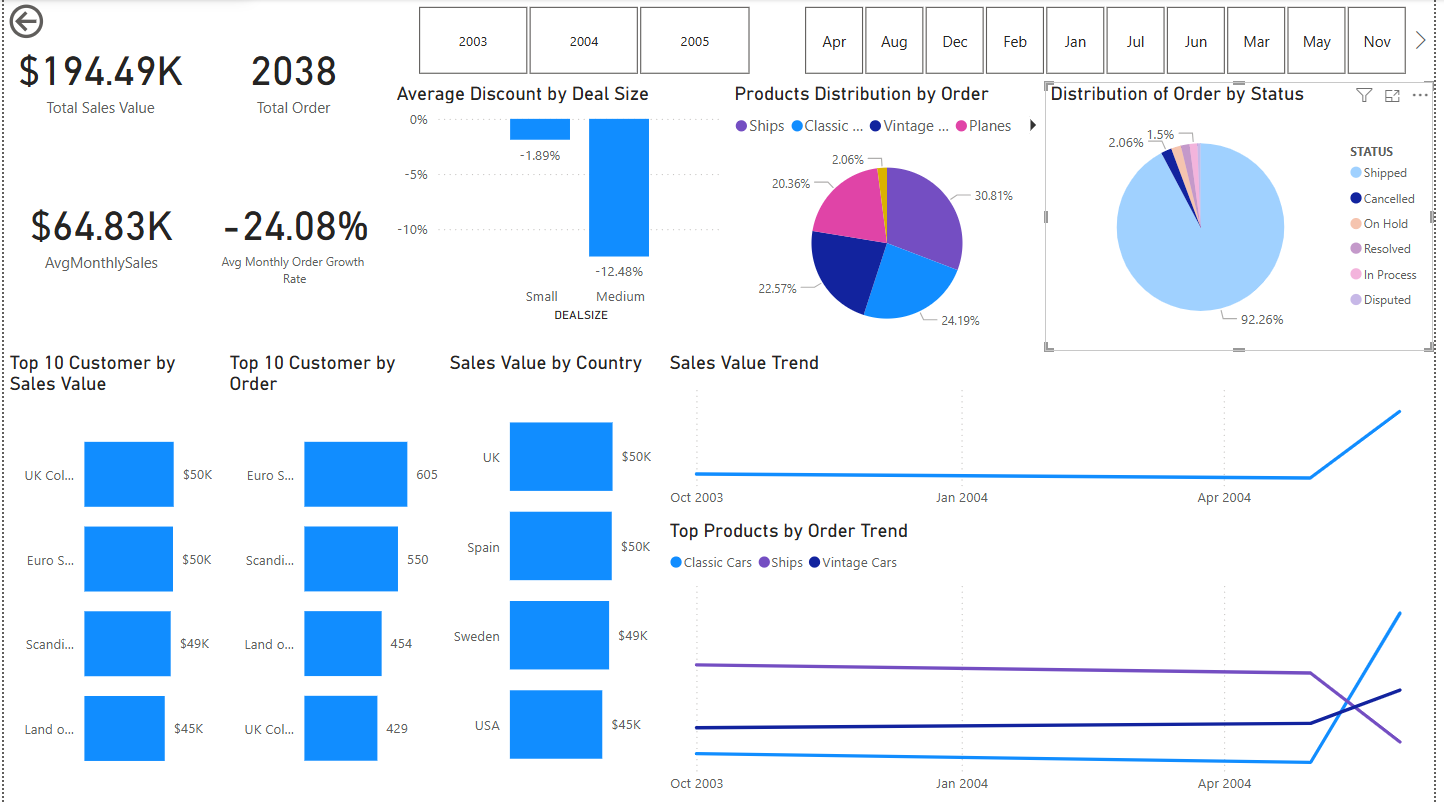

The page's visual inventory and layout, read from the dashboard file:
{"tool":"powerbi","page":{"name":"Page 1","canvas":[1280,720],"ordinal":0},"visuals":[{"type":"card","fields":{"Values":["Sum(Sheet1.SALES)"]},"box":[0,0,172.8,138.8],"z":0},{"type":"card","fields":{"Values":["Sum(Sheet1.QUANTITYORDERED)"]},"box":[172.8,0,172.8,138.8],"z":1000},{"type":"slicer","fields":{"Values":["Sheet1.YEAR_ID"]},"box":[345.7,0,345.7,74.3],"z":2000},{"type":"slicer","fields":{"Values":["Sheet1.MonthName"]},"box":[691.3,0,588.4,74.3],"z":3000},{"type":"lineChart","title":"Sales Value Trend","fields":{"Y":["Sum(Sheet1.SALES)"],"Category":["Sheet1.ORDERDATE.Variation.Date Hierarchy.Year","Sheet1.ORDERDATE.Variation.Date Hierarchy.Month"]},"box":[591,315.2,688.7,149.6],"z":4000},{"type":"lineChart","title":"Top Products by Order Trend","fields":{"Series":["Sheet1.PRODUCTLINE"],"Y":["Sum(Sheet1.QUANTITYORDERED)"],"Category":["Sheet1.ORDERDATE.Variation.Date Hierarchy.Year","Sheet1.ORDERDATE.Variation.Date Hierarchy.Month"]},"box":[590.9,465.5,689.1,254.5],"z":5000},{"type":"card","fields":{"Values":["Sheet1.AvgMonthlySales"]},"box":[0.8,139.2,172.5,138.3],"z":6000},{"type":"barChart","title":"Top 10 Customer by Sales Value","fields":{"Category":["Sheet1.CUSTOMERNAME"],"Y":["Sum(Sheet1.SALES)"]},"box":[0,315,196.7,405],"z":7000},{"type":"barChart","title":"Top 10 Customer by Order","fields":{"Category":["Sheet1.CUSTOMERNAME"],"Y":["Sum(Sheet1.QUANTITYORDERED)"]},"box":[197,315.2,197,404.8],"z":8000},{"type":"pieChart","title":"Products Distribution by Order","fields":{"Category":["Sheet1.PRODUCTLINE"],"Y":["Sum(Sheet1.QUANTITYORDERED)"]},"box":[649.3,74.3,283,240.9],"z":9000},{"type":"pieChart","title":"Distribution of Order by Status","fields":{"Category":["Sheet1.STATUS"],"Y":["Sum(Sheet1.QUANTITYORDERED)"]},"box":[932.2,74.3,347.5,240.9],"z":10000},{"type":"columnChart","title":"Average Discount by Deal Size","fields":{"Category":["Sheet1.DEALSIZE"],"Y":["Avg(Sheet1.PriceDifference%)"]},"box":[346.6,74.3,302.7,219.4],"z":11000},{"type":"barChart","title":"Sales Value by Country","fields":{"Y":["Sum(Sheet1.SALES)"],"Category":["Sheet1.COUNTRY","Sheet1.CITY"]},"box":[394,315.2,197,404.8],"z":12000},{"type":"actionButton","box":[0,0,100,40],"z":13000},{"type":"card","fields":{"Values":["Sheet1.AvgMoMGrowth"]},"box":[173.7,138.8,172.8,137.9],"z":14000}]}

Visuals, with their boxes in screenshot pixels (x1, y1, x2, y2), scaled from the page's 1280x720 canvas onto the 1444x802 screenshot:
card - Sum(Sheet1.SALES): 0:0:195:155
card - Sum(Sheet1.QUANTITYORDERED): 195:0:390:155
slicer - Sheet1.YEAR_ID: 390:0:780:83
slicer - Sheet1.MonthName: 780:0:1443:83
"Sales Value Trend" lineChart: 667:351:1443:518
"Top Products by Order Trend" lineChart: 667:519:1443:801
card - Sheet1.AvgMonthlySales: 1:155:196:309
"Top 10 Customer by Sales Value" barChart: 0:351:222:801
"Top 10 Customer by Order" barChart: 222:351:444:801
"Products Distribution by Order" pieChart: 732:83:1052:351
"Distribution of Order by Status" pieChart: 1052:83:1443:351
"Average Discount by Deal Size" columnChart: 391:83:732:327
"Sales Value by Country" barChart: 444:351:667:801
actionButton: 0:0:113:45
card - Sheet1.AvgMoMGrowth: 196:155:391:308
